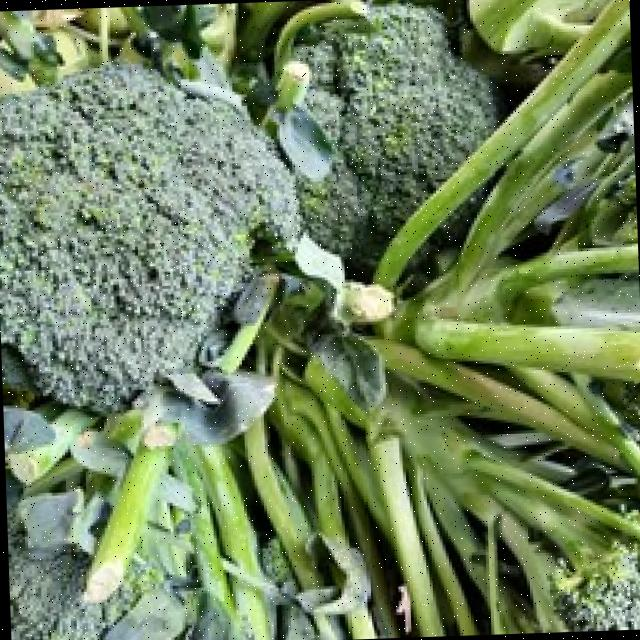Broccoli: (0, 64, 299, 411), (0, 65, 299, 411), (296, 4, 496, 277), (296, 4, 496, 276)
